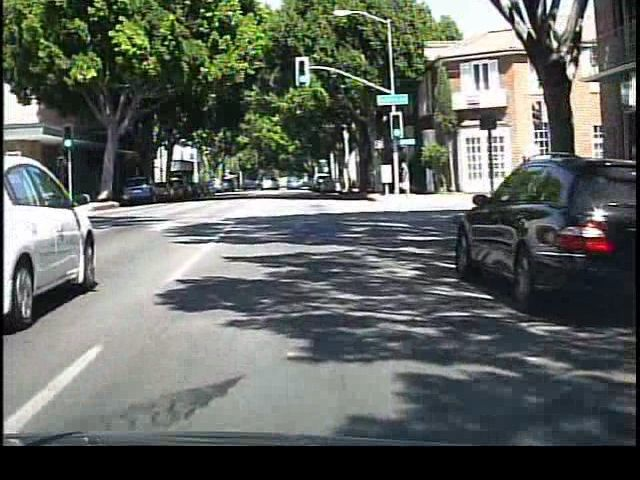person: (397, 157, 416, 201)
